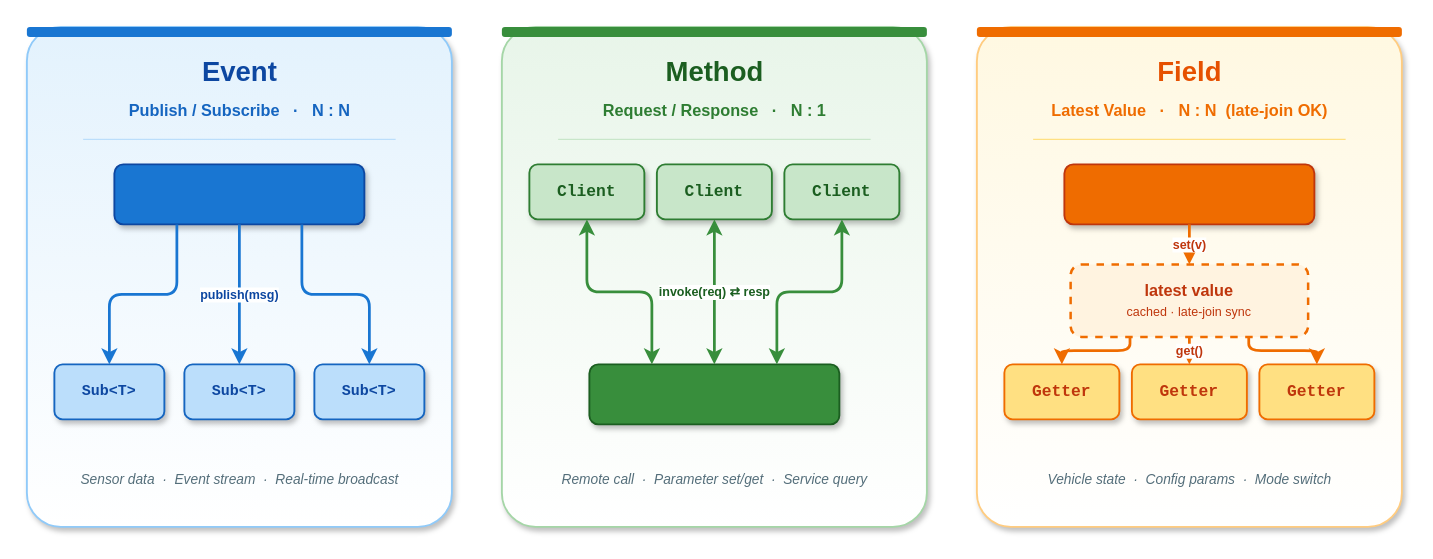
The diagram is 1433 pixels wide and 559 high, and some of its shapes have lost their labels. The shapes that lost their labels are listed below. From the top down, each one's centre as x and y in pixels, then its label:
(x=240, y=196): Publisher<T>
(x=1190, y=196): Setter<T>
(x=715, y=396): Server<Req, Resp>
